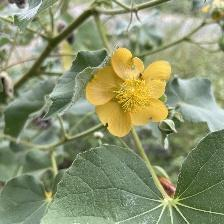indian mallow: (84, 47, 175, 138)
